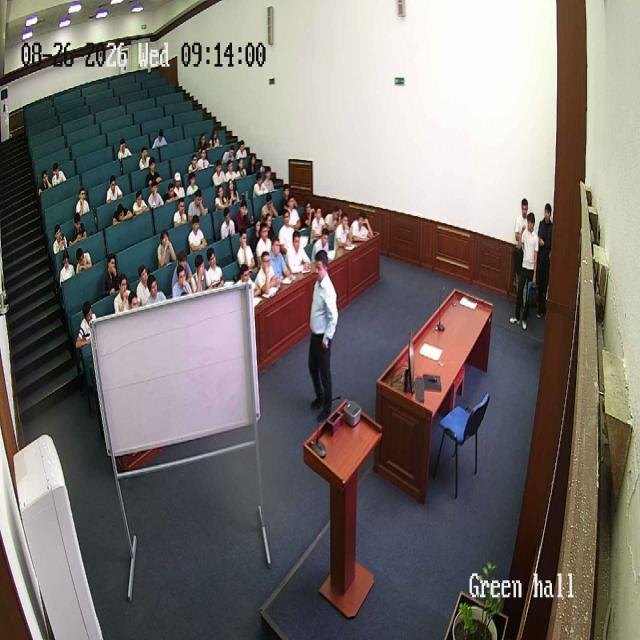person: (307, 250, 339, 421), (512, 209, 540, 328), (534, 203, 553, 321), (512, 197, 531, 304), (286, 228, 312, 278), (253, 250, 280, 298), (76, 300, 98, 352), (269, 239, 291, 285), (190, 252, 212, 294), (236, 227, 256, 273), (205, 247, 226, 290), (100, 254, 120, 299), (256, 218, 274, 266), (156, 228, 176, 270), (278, 209, 296, 255), (172, 262, 194, 299), (334, 212, 354, 252), (350, 210, 374, 243), (188, 184, 210, 220), (188, 215, 208, 254), (114, 273, 132, 314), (145, 274, 167, 306), (57, 250, 76, 287), (49, 160, 70, 191), (75, 242, 93, 277), (259, 194, 281, 222), (217, 207, 235, 240), (130, 185, 148, 216), (51, 220, 68, 252), (324, 196, 341, 226), (146, 181, 164, 209), (69, 216, 86, 245), (210, 158, 226, 188), (105, 178, 123, 204), (171, 168, 185, 200), (300, 197, 316, 224), (75, 186, 89, 216), (174, 196, 188, 226), (227, 172, 240, 204), (114, 203, 131, 224), (199, 145, 211, 172), (284, 197, 296, 224), (212, 188, 224, 214), (263, 161, 274, 189), (312, 204, 322, 234), (264, 209, 277, 232), (225, 158, 237, 182), (254, 172, 266, 196), (136, 145, 147, 171), (235, 158, 248, 180), (222, 143, 236, 163), (235, 135, 247, 157), (248, 151, 259, 175), (236, 202, 248, 224), (148, 157, 158, 183), (153, 127, 165, 148), (197, 129, 207, 153), (186, 152, 198, 172), (280, 182, 290, 205), (119, 137, 127, 165), (189, 170, 197, 196), (38, 170, 48, 190), (210, 128, 220, 148), (167, 182, 177, 201), (252, 216, 260, 236)
